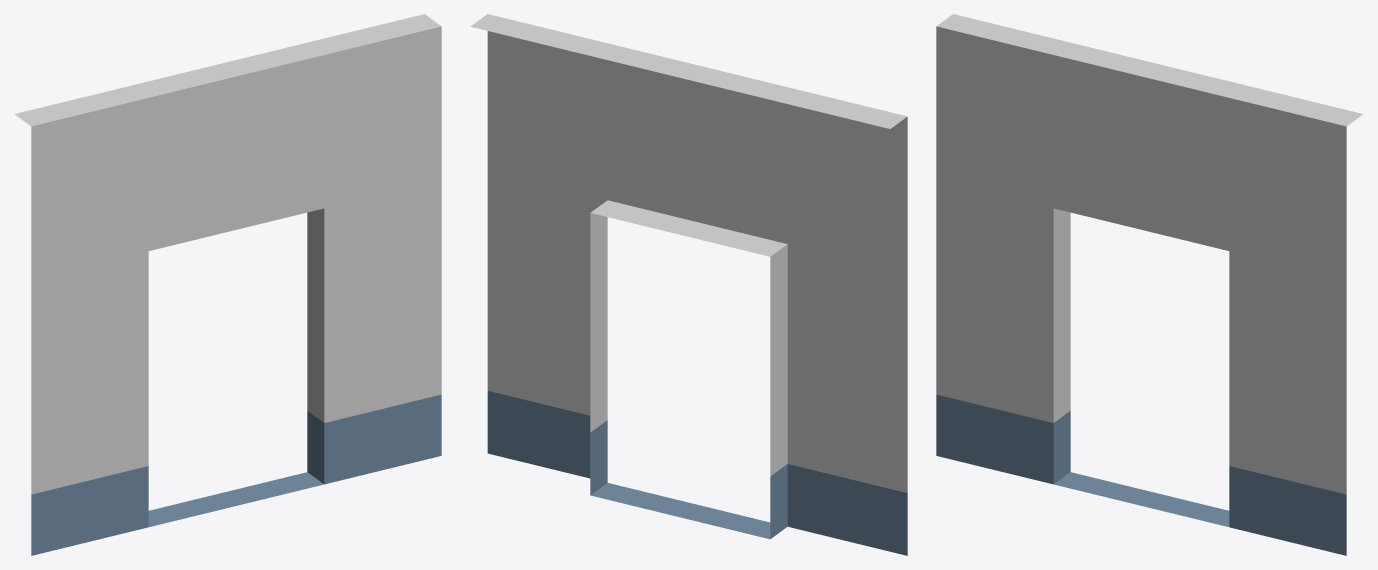
Rendered from M_WallDoor150SWhite80-2.fbx.
The picture shows the model from 3 angles, left to right: view 1: azimuth 30°, elevation 25°; view 2: azimuth 150°, elevation 25°; view 3: azimuth 330°, elevation 25°; orthographic projection. The views are drawn at different scales.
Parts seen in each view (by area): view 1: M_WallDoor150SWhite80-2; view 2: M_WallDoor150SWhite80-2; view 3: M_WallDoor150SWhite80-2.
Boxes of the visible parts, left/top/right/bottom form: M_WallDoor150SWhite80-2: left=14, top=14, right=441, bottom=555; M_WallDoor150SWhite80-2: left=471, top=14, right=907, bottom=555; M_WallDoor150SWhite80-2: left=936, top=14, right=1363, bottom=555.
Bounding box in the file's own units: 3.5 × 3.5 × 0.25.
